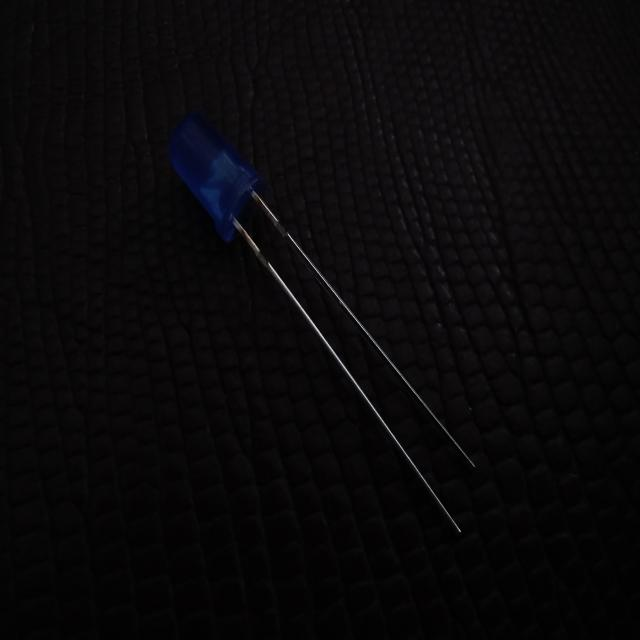blue_led: (167, 109, 267, 244)
